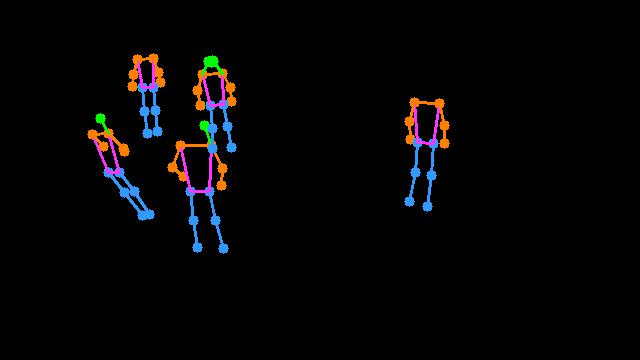normal: (67, 40, 250, 275)
